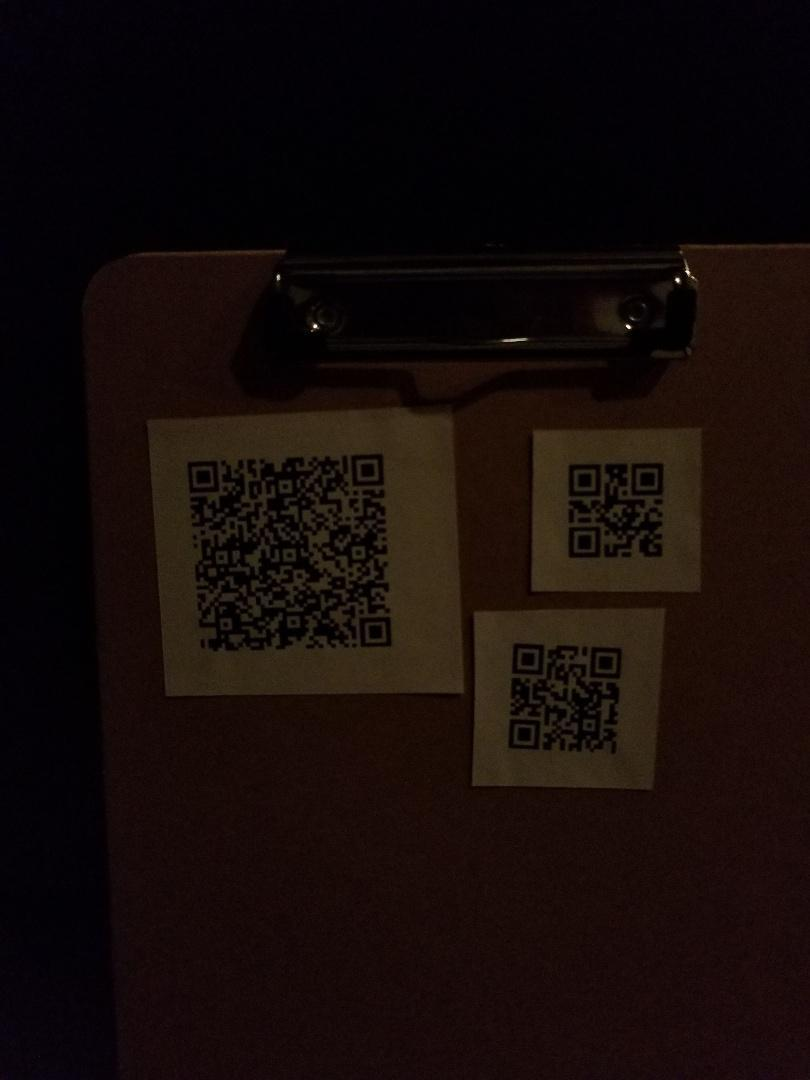Finder pattern: (628, 456, 671, 500), (562, 521, 608, 562), (562, 460, 607, 499), (181, 455, 224, 495), (505, 636, 549, 675), (347, 449, 390, 488), (354, 613, 394, 651), (507, 713, 543, 755), (586, 642, 621, 681)
